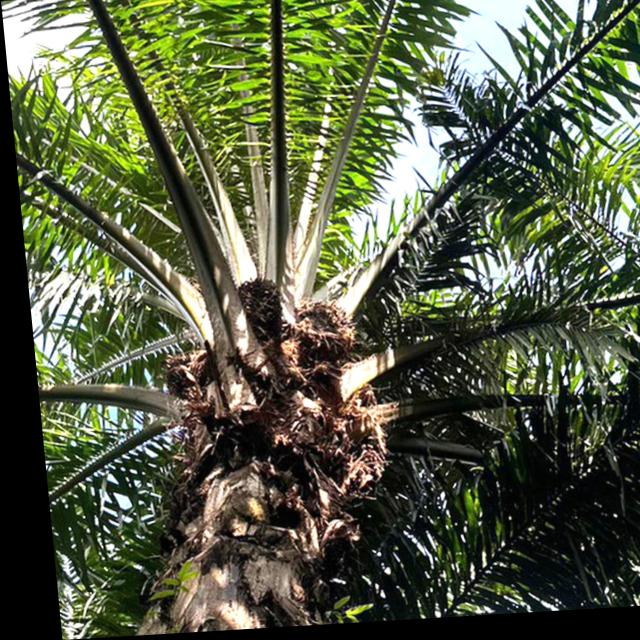unripe: (222, 271, 286, 350)
